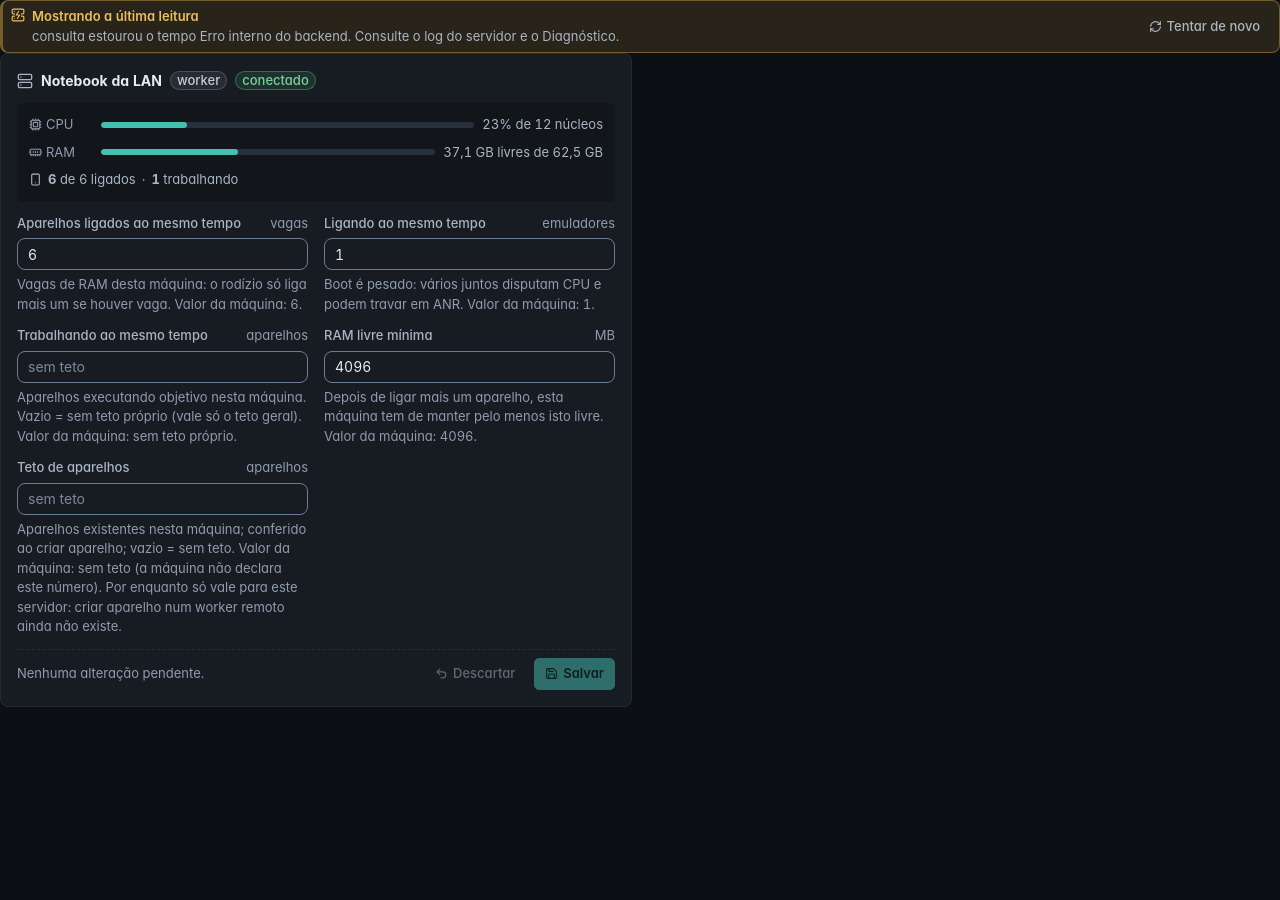
Test case: Limites → Por servidor › releitura que falha com dado na tela vira faixa "Mostrando a última leitura", não silêncio
Click the button "Tentar de novo" at x=1204, y=26, box left=1138, top=10, right=1271, bottom=42
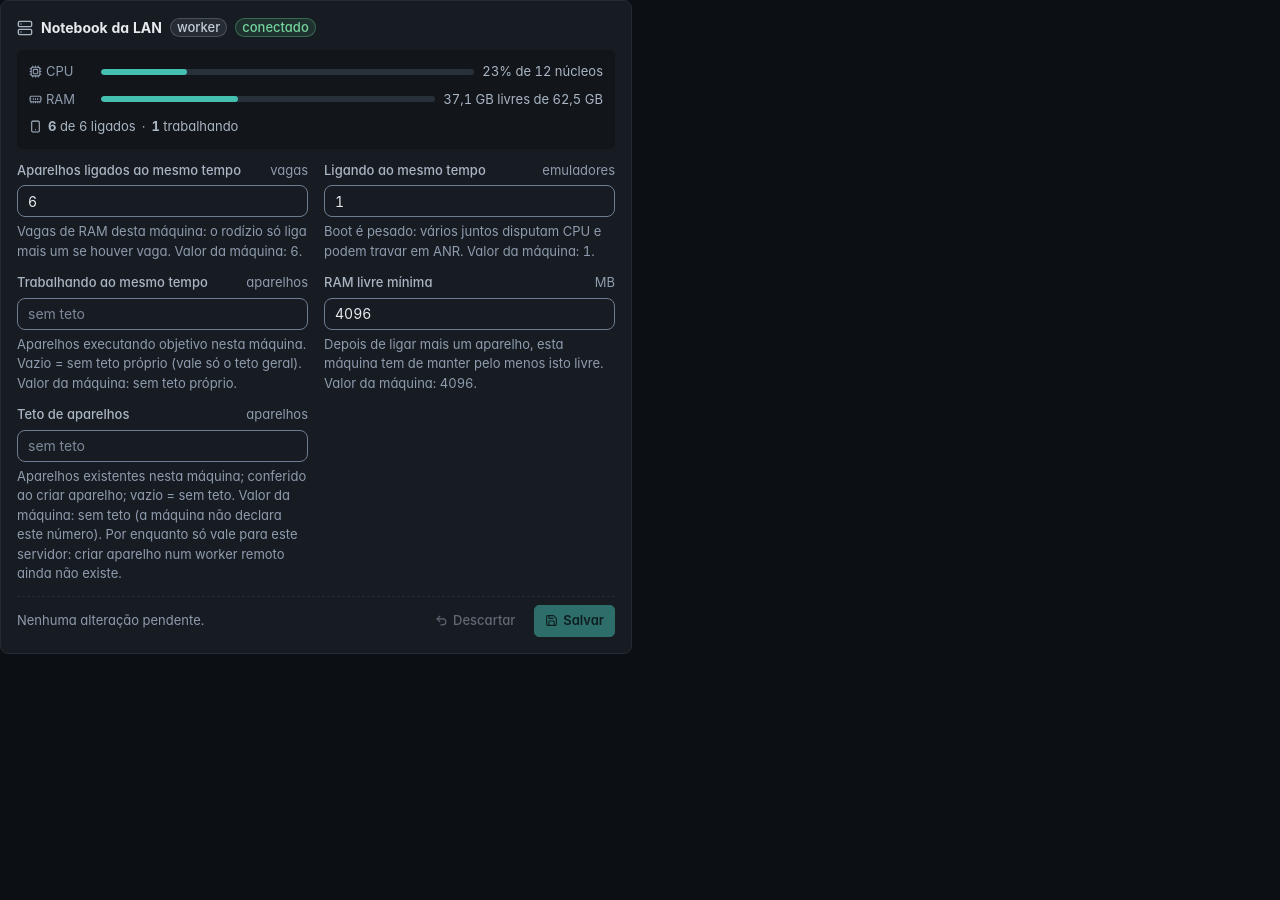
Check: the text "Mostrando a última leitura" is gone
